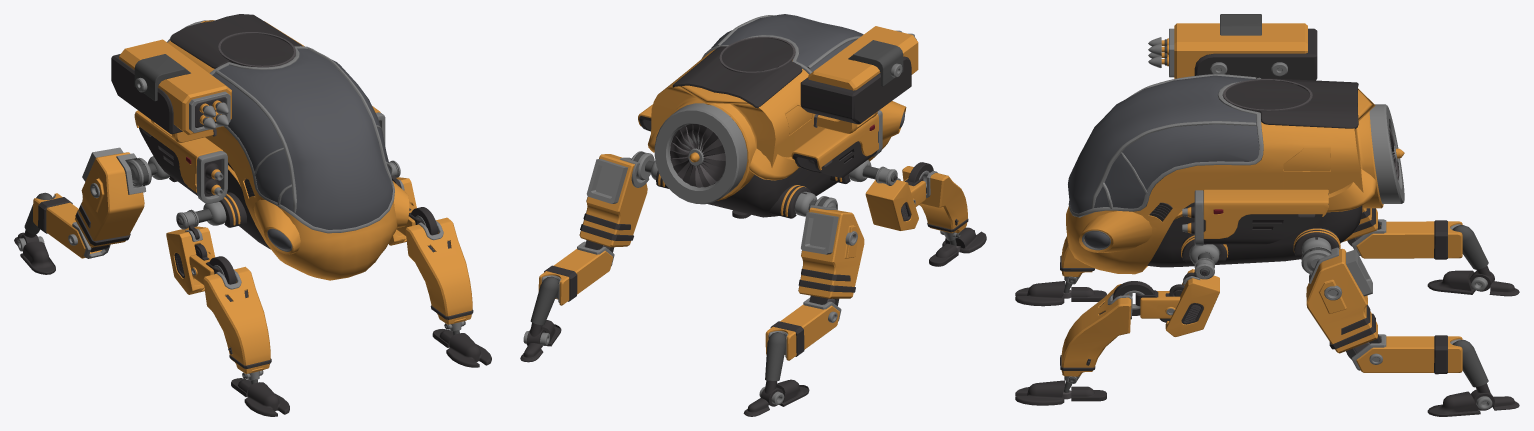
Rendered from Frog-Bus.fbx.
3 views of the same model, side by side, from view 1: azimuth 30°, elevation 25°; view 2: azimuth 150°, elevation 25°; view 3: azimuth 270°, elevation 25° (orthographic). The views are drawn at different scales.
Parts seen in each view (by area): view 1: polySurface625.001; view 2: polySurface625.001; view 3: polySurface625.001.
Part boxes in pixels (<box>): polySurface625.001: <box>14,14,491,416</box>; polySurface625.001: <box>520,14,986,416</box>; polySurface625.001: <box>1015,14,1519,416</box>.
Size of the model in its own units: 2008 by 1913 by 3165.
